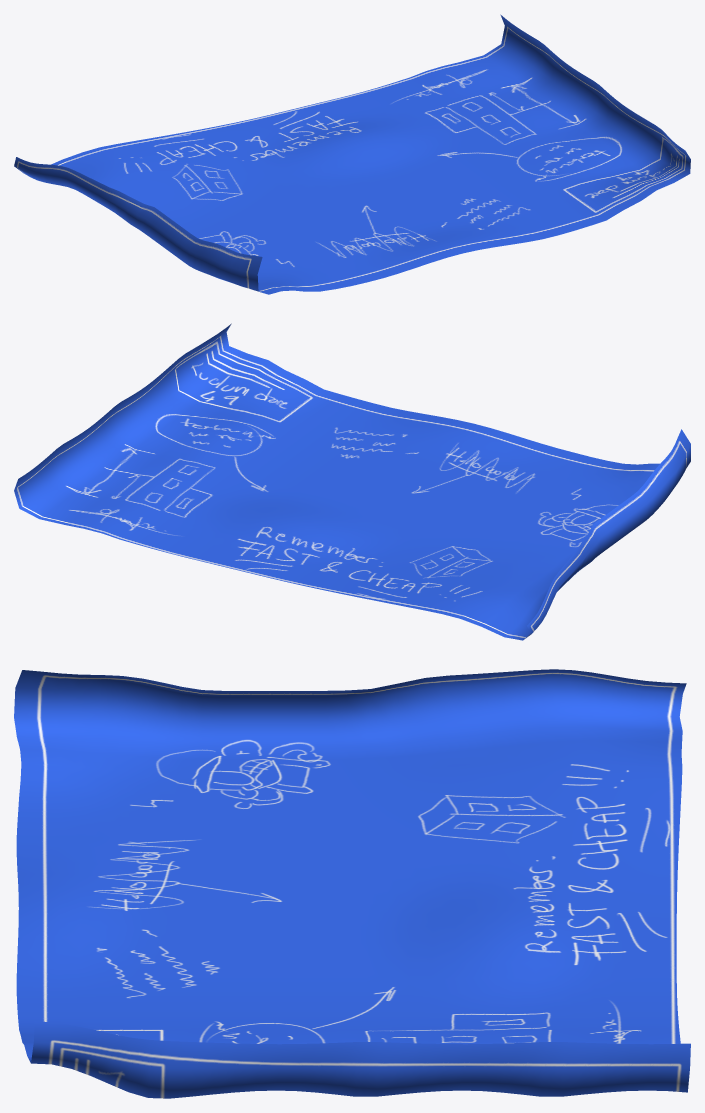
Rendered from blueprint.glb.
3 views of the same model, one above another, from view 1: azimuth 30°, elevation 25°; view 2: azimuth 150°, elevation 25°; view 3: azimuth 270°, elevation 25° (orthographic). The views are drawn at different scales.
Visible parts, largest first — view 1: blueprint; view 2: blueprint; view 3: blueprint.
Part boxes in pixels (x1,y1,x2,y2): blueprint: (14,14,690,294); blueprint: (14,323,690,640); blueprint: (14,669,690,1098).
Bounding box in the file's own units: 19.83 × 1.89 × 13.94.
1 material, 1 textured.
